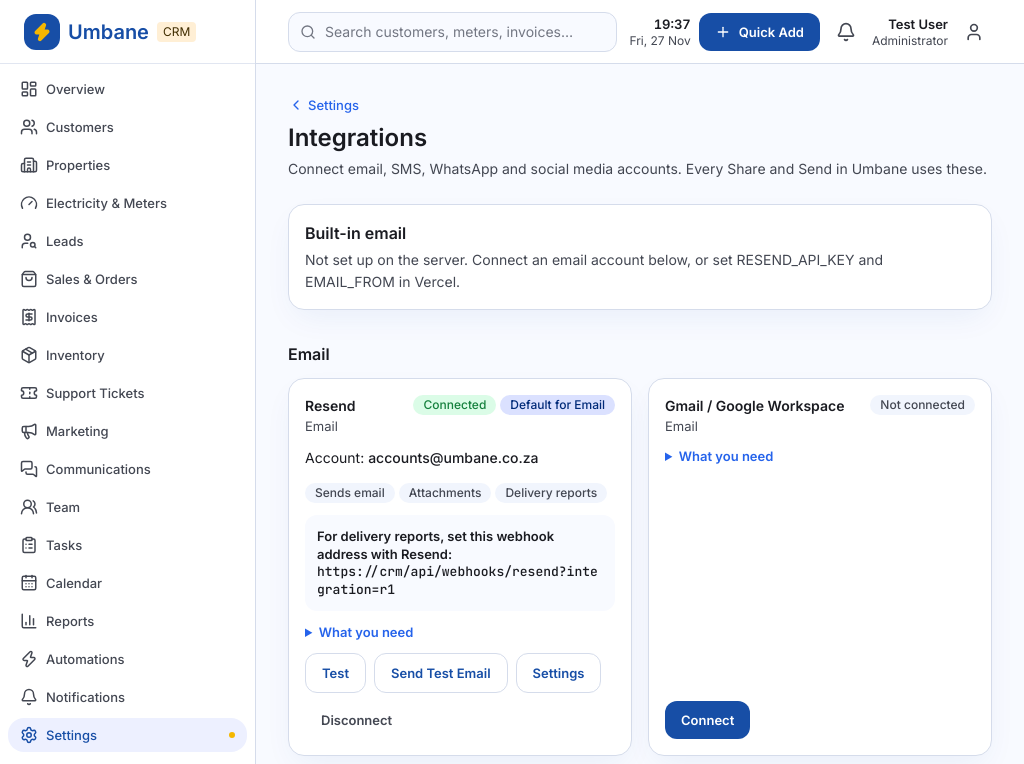
Scenario: Settings → Integrations › tests a connection and sends a test email
Click the button "Send Test Email" at {"x": 441, "y": 673}, box [374,653,508,693]
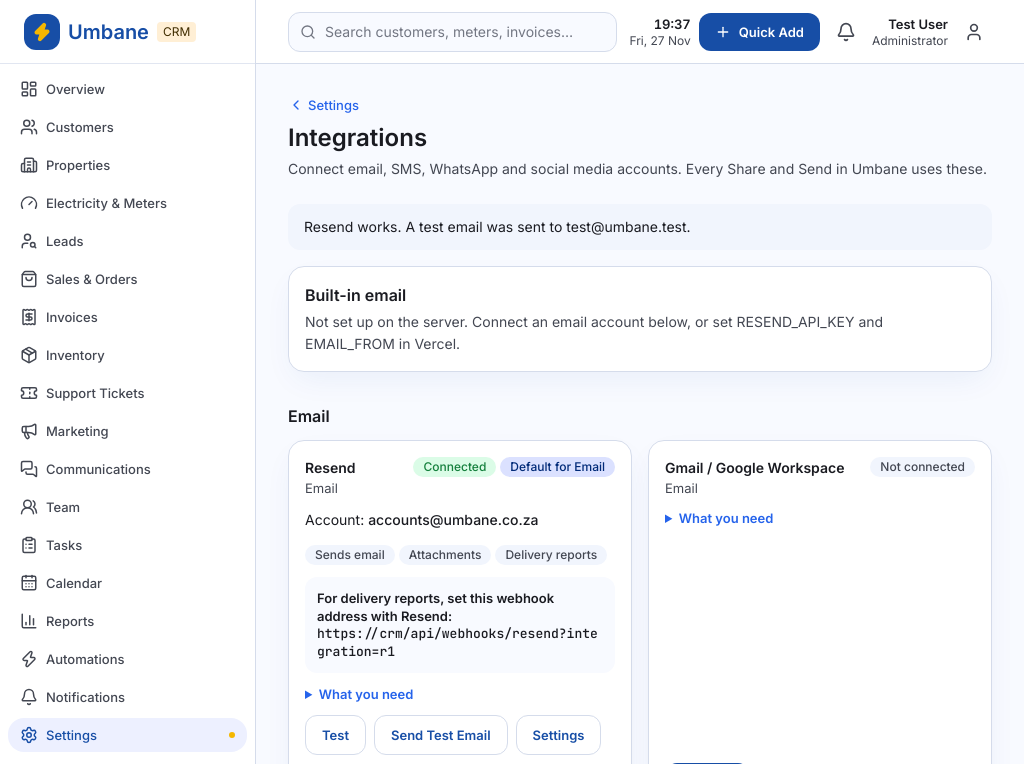
Expected: the text "Resend works. A test email was sent to test@umbane.test." is shown, [288,204,992,250]
